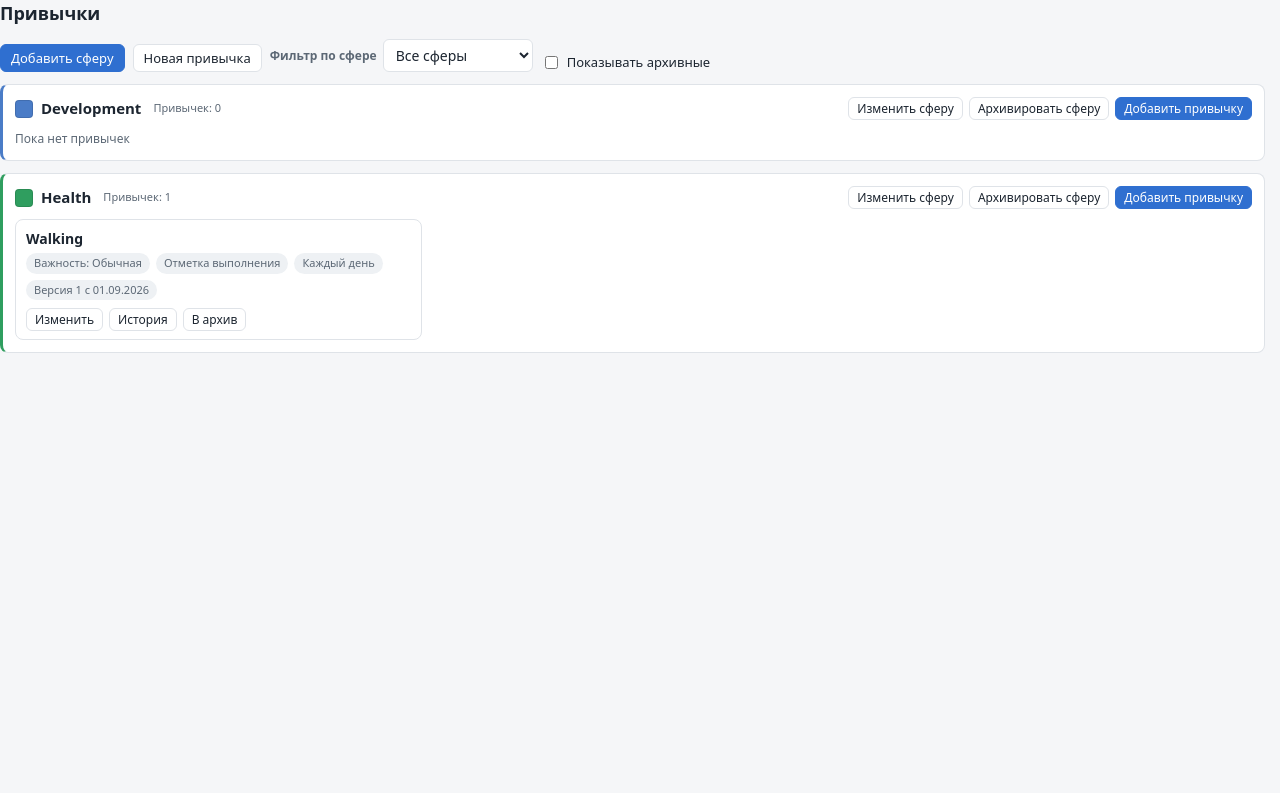
Test: HabitsPage › moves an edited habit to the destination block and follows an active area filter
Expected: the text "Walking" is shown, [26, 229, 83, 248]
Select "Health" in the dropdown labelled "Фильтр по сфере" at (458,56), box [383, 39, 533, 72]
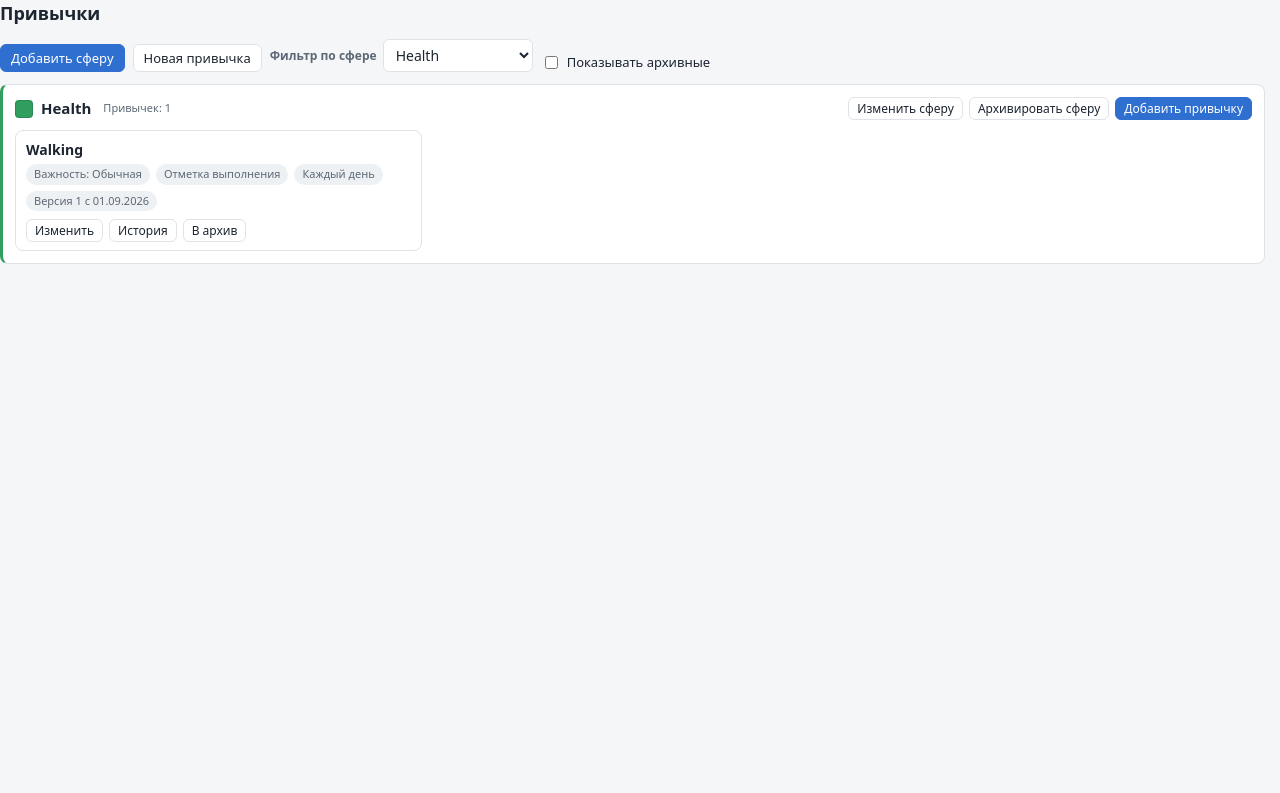
Click the button "Изменить".
click(64, 230)  # box [26, 219, 103, 242]
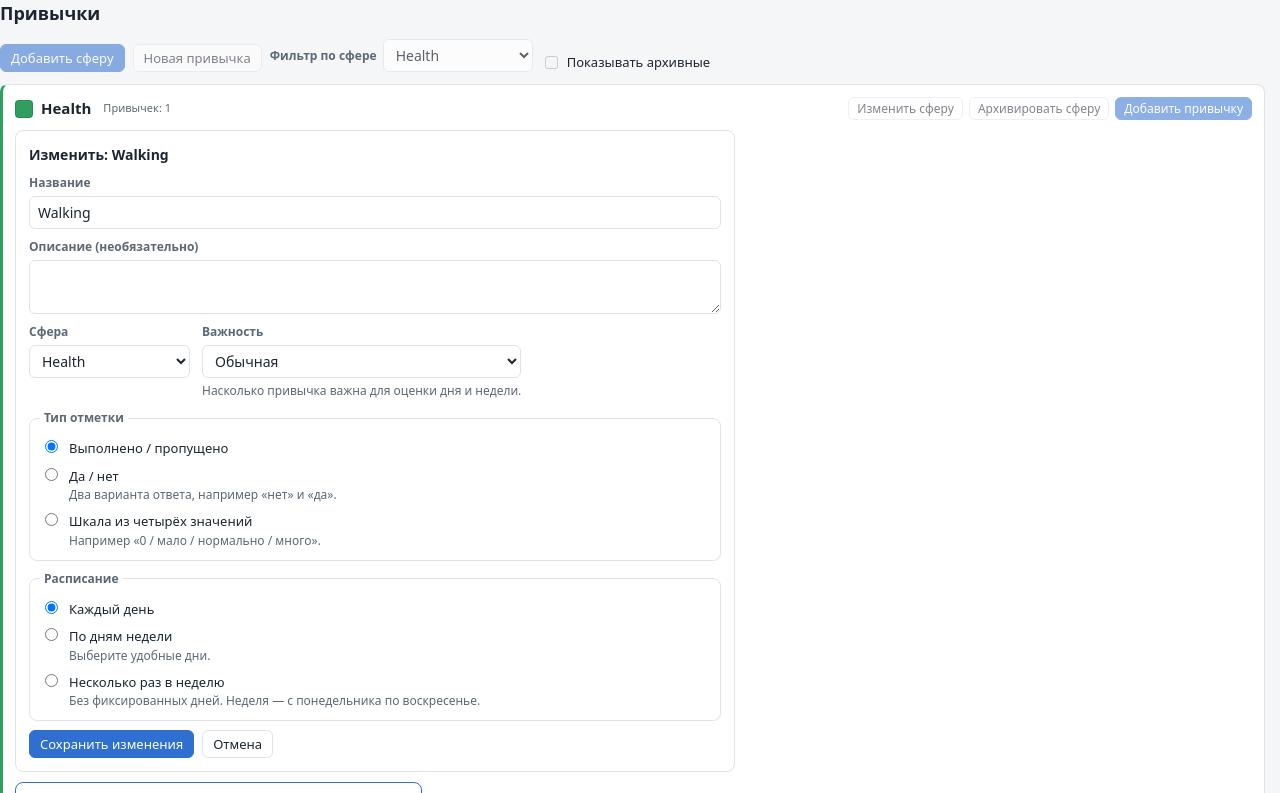
Select "Development" in the dropdown labelled "Сфера" at (110,362), box [29, 345, 190, 378]
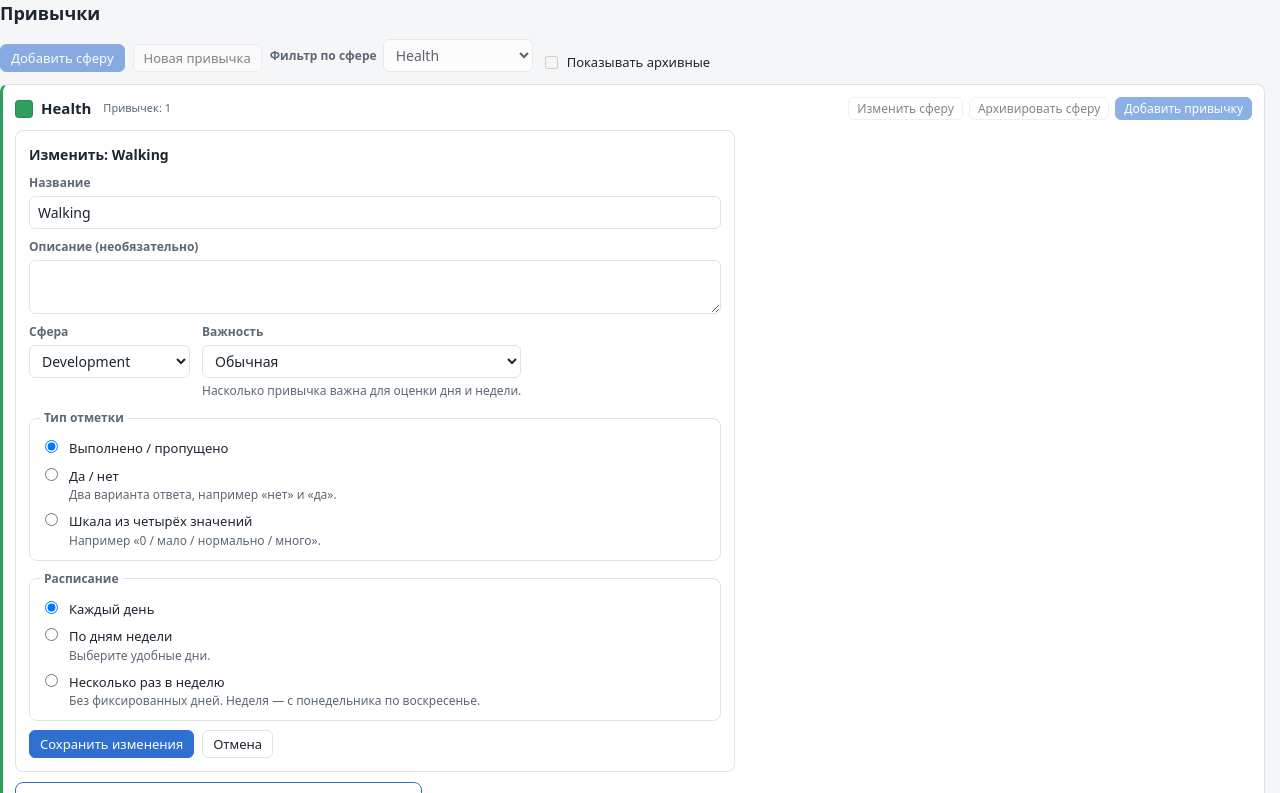
Click the button "Сохранить изменения".
click(112, 744)  # box [29, 730, 194, 758]
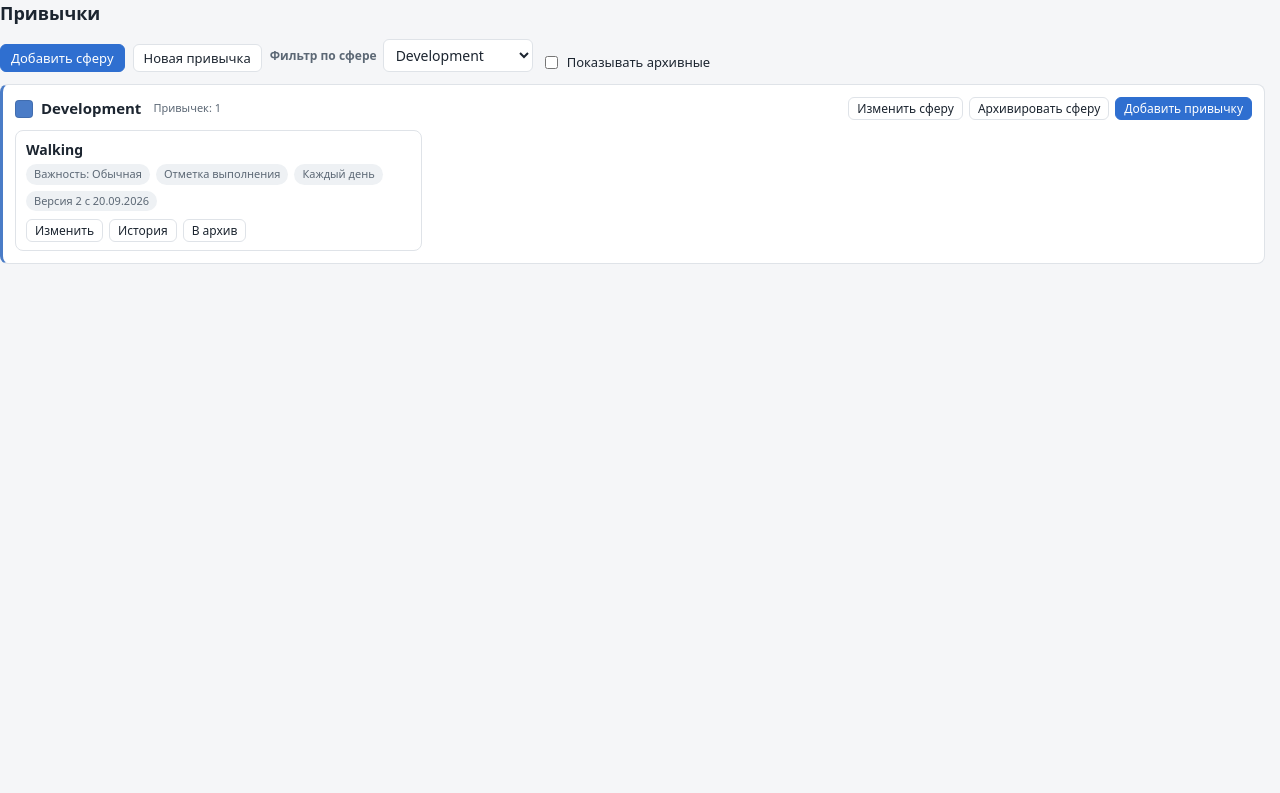
Expected: the text "Walking" is shown, [26, 140, 83, 159]
Select "Все сферы" in the dropdown labelled "Фильтр по сфере" at (458,56), box [383, 39, 533, 72]
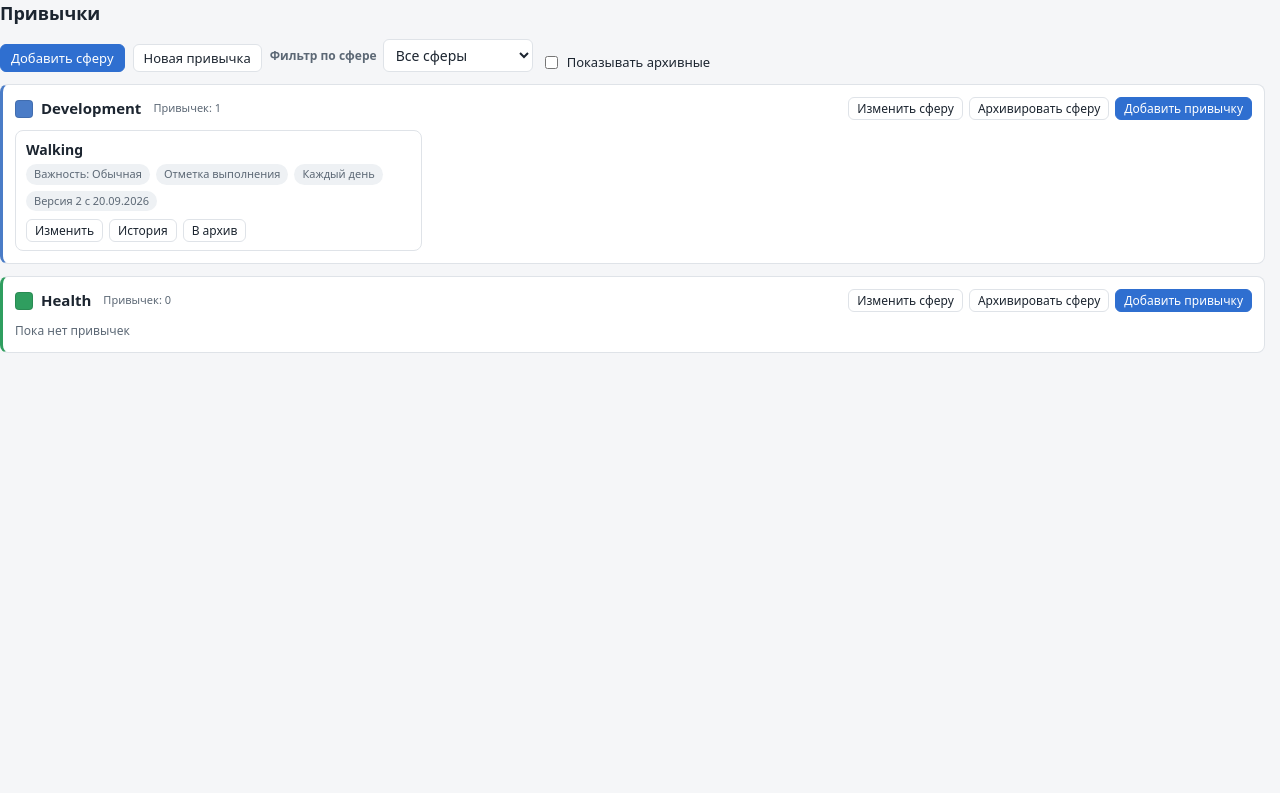
Expected: the text "Пока нет привычек" is shown, [15, 322, 130, 339]
